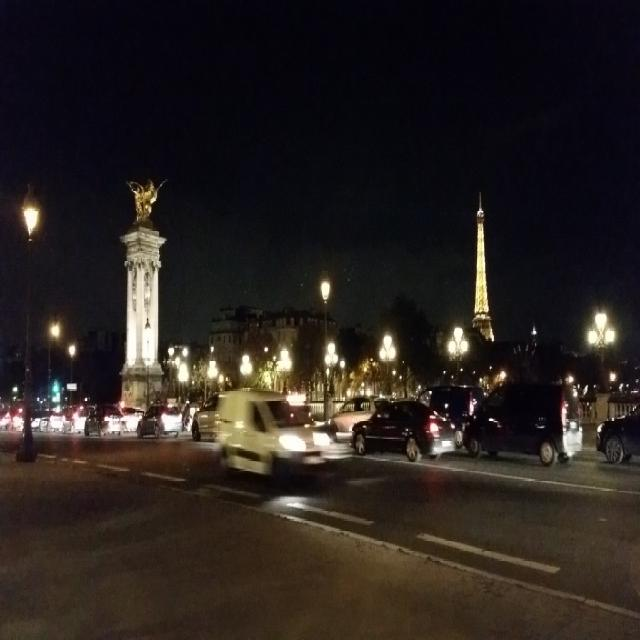car: (348, 397, 454, 462), (135, 399, 180, 438), (83, 401, 123, 438)
